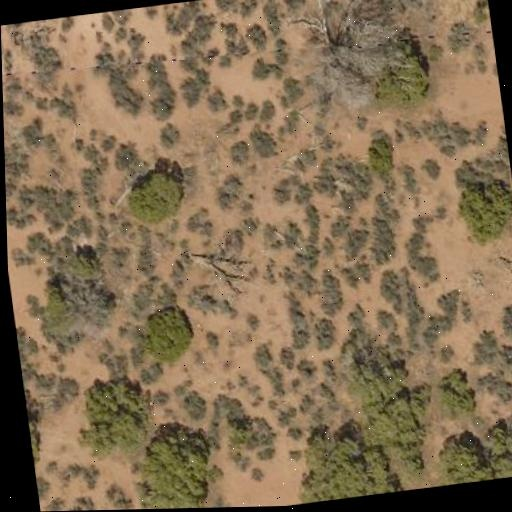tree-top: (341, 344, 430, 461), (302, 0, 390, 112), (296, 422, 401, 504), (72, 370, 160, 462), (35, 245, 120, 340), (133, 422, 217, 509), (363, 40, 442, 115), (427, 420, 512, 487), (447, 163, 512, 245), (117, 160, 193, 230), (132, 299, 203, 367), (427, 360, 487, 424), (25, 392, 54, 479), (453, 0, 491, 28)
